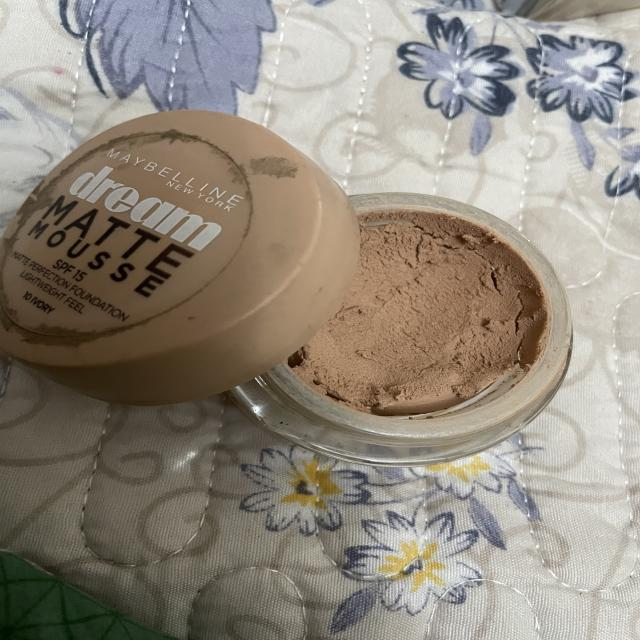foundation: (220, 175, 602, 480)
